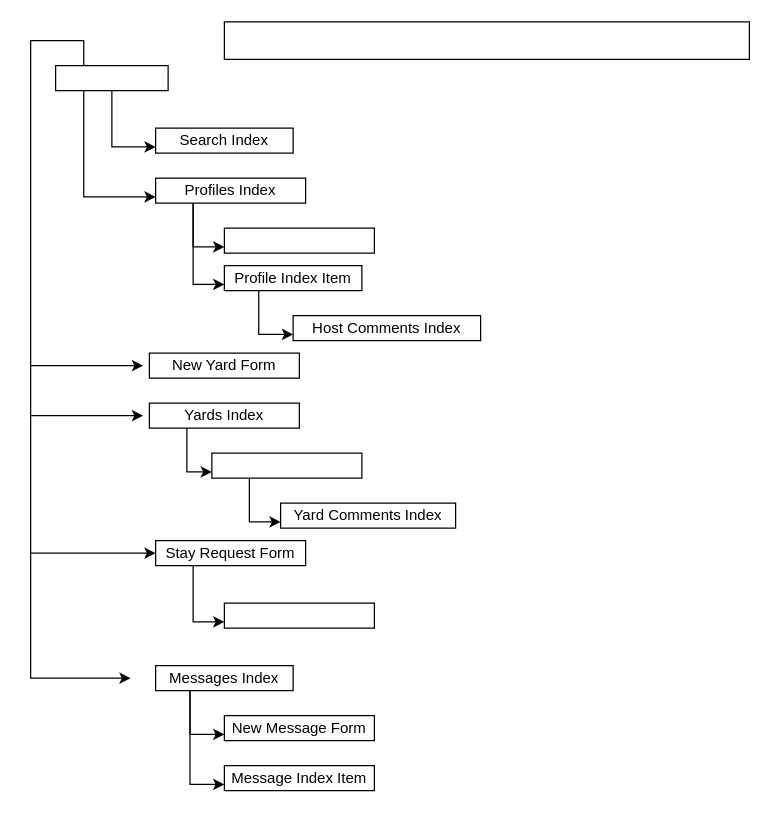
This 771x816 diagram has some shape labels left out. The shapes that lost their labels are listed below. From the top down, each one's centre as x and y in pixels, then its label:
At (x=486, y=40): "Component Higherarchy".
At (x=111, y=77): "App".
At (x=298, y=240): "Edit Profile Form".
At (x=286, y=465): "Yards Index Item".
At (x=298, y=615): "Stay Edit Area".
